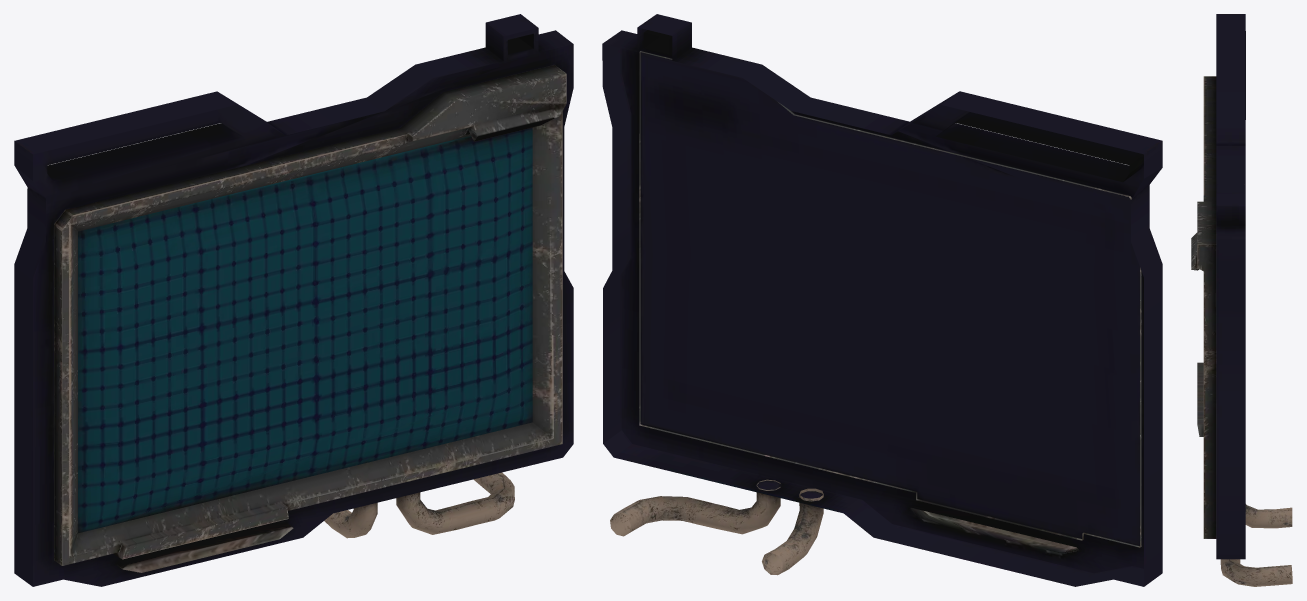
File: mark-transformed.glb
3 views of the same model, side by side, from view 1: azimuth 30°, elevation 25°; view 2: azimuth 150°, elevation 25°; view 3: azimuth 270°, elevation 25° (orthographic). The views are drawn at different scales.
Visible parts, largest first — view 1: marco__0; view 2: marco__0; view 3: marco__0.
Part boxes in pixels (x1=…): marco__0: x1=14, y1=14, x2=573, y2=586; marco__0: x1=602, y1=14, x2=1162, y2=586; marco__0: x1=1191, y1=14, x2=1292, y2=586.
Size of the model in its own units: 61.18 by 52.87 by 12.58.
1 material, 1 textured.
